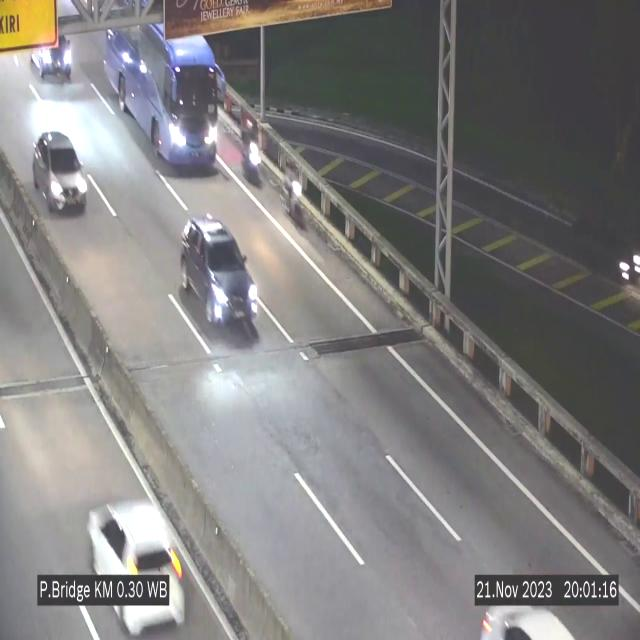Bus: (103, 22, 217, 166)
Car: (74, 489, 196, 640), (180, 215, 259, 333), (568, 212, 640, 295), (33, 132, 87, 212), (28, 25, 76, 91)
Motorcycle: (283, 161, 307, 231), (241, 117, 262, 185)
